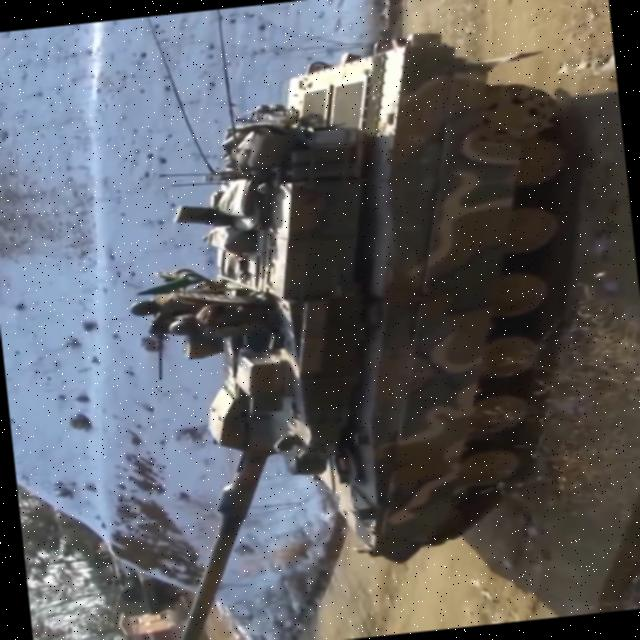korea tank: (96, 17, 618, 640)
